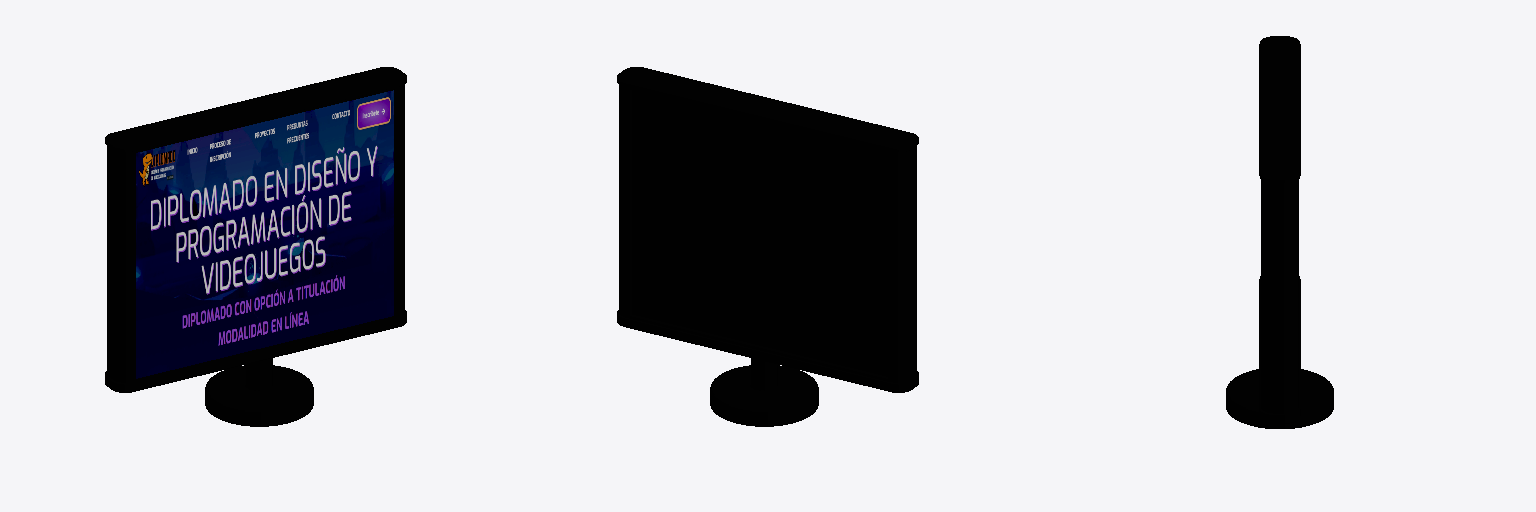
3 views of the same model, side by side, from view 1: azimuth 30°, elevation 25°; view 2: azimuth 150°, elevation 25°; view 3: azimuth 270°, elevation 25° (orthographic).
Parts seen in each view (by area): view 1: Logo, Base; view 2: Base; view 3: Base.
Boxes of the visible parts, <box> form: Logo: <box>136,90,393,378</box>; Base: <box>105,67,406,426</box>; Base: <box>617,67,918,426</box>; Base: <box>1226,36,1333,428</box>.
Bounding box in the file's own units: 4.17 × 4.03 × 1.33.
2 materials, 1 textured.